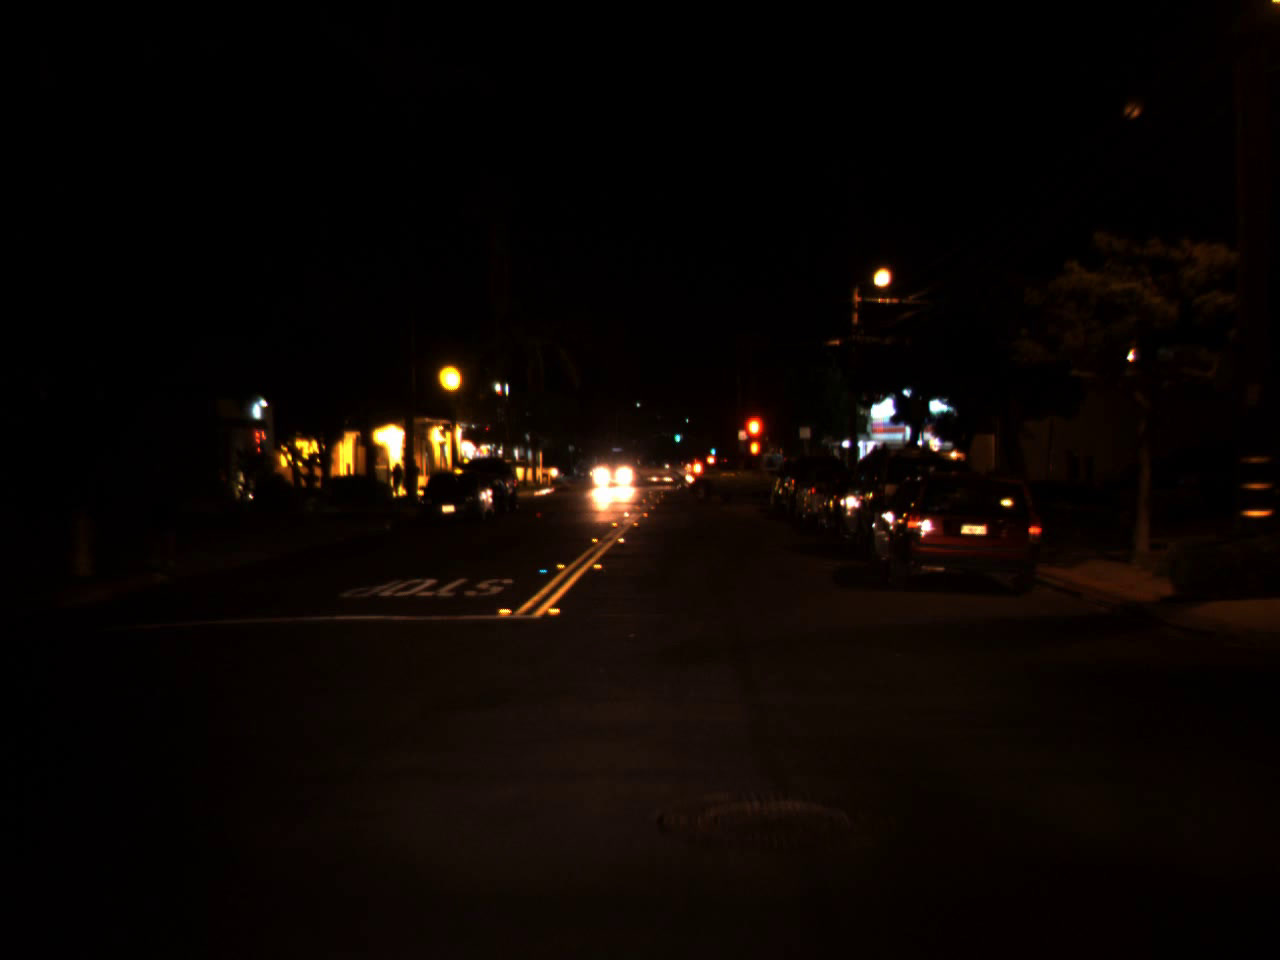go: (673, 427, 682, 442), (708, 440, 717, 455)
stop: (739, 413, 766, 464)
